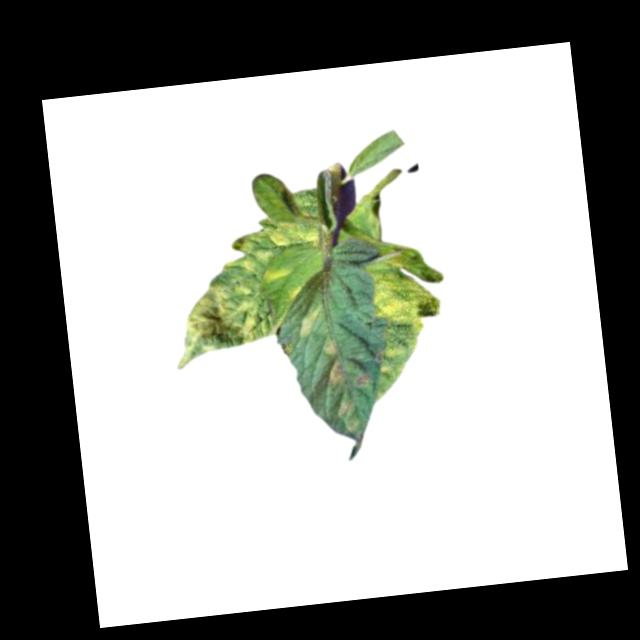Leaf_Mold: (161, 252, 276, 371), (369, 243, 448, 338), (234, 216, 321, 254), (292, 303, 322, 341), (322, 356, 346, 390), (333, 394, 358, 422), (264, 264, 291, 287), (319, 341, 339, 358)
